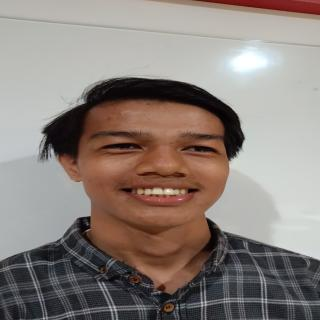Senang: (74, 95, 253, 233)
